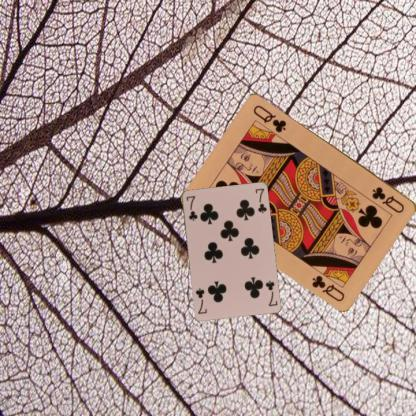7c: (263, 277, 278, 307), (184, 193, 198, 222)
Qc: (369, 184, 406, 214)
